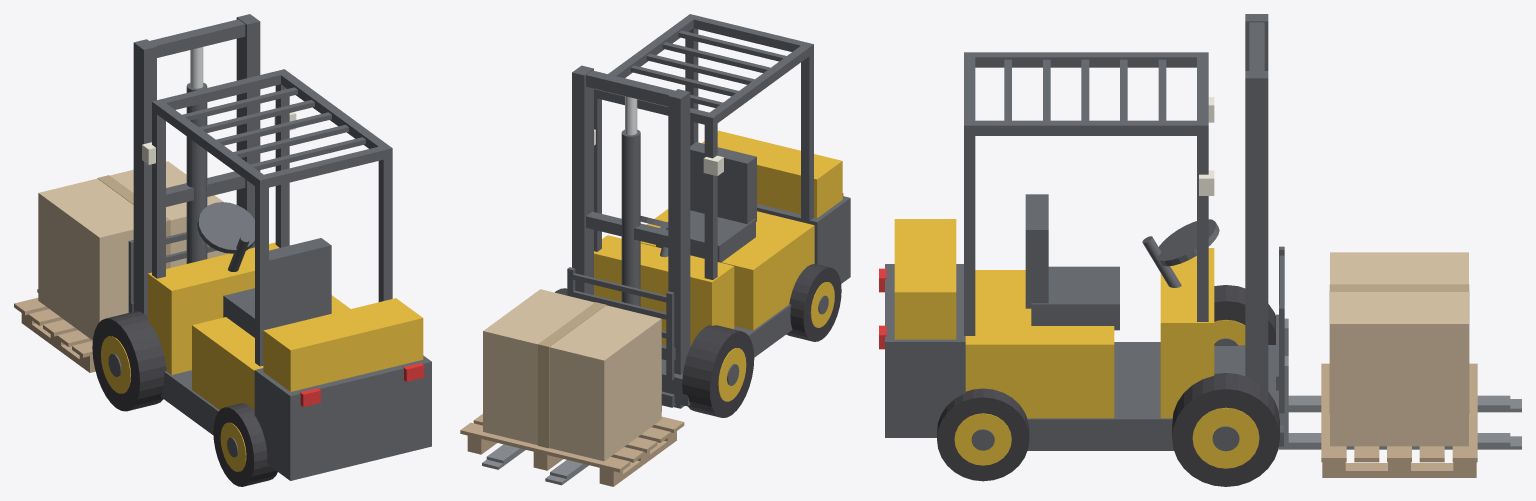
Rendered from forklift.glb.
3 renders of one model, left to right at view 1: azimuth 30°, elevation 25°; view 2: azimuth 150°, elevation 25°; view 3: azimuth 270°, elevation 25°, orthographic. The views are drawn at different scales.
Visible parts, largest first — view 1: Counterweight_Lower, Cargo_Box, Counterweight_Upper, Chassis_FrontCowl, Chassis_Hood, Mast_Rail_L, Seat_Backrest, Wheel_FL, Mast_Rail_R, Wheel_RL, Lift_Hydraulic_Cylinder, Pillar_3 (+22 smaller); view 2: Cargo_Box, Chassis_Hood, Chassis_FrontCowl, Mast_Rail_L, Counterweight_Upper, Mast_Rail_R, Wheel_FL, Seat_Backrest, Lift_Hydraulic_Cylinder, Counterweight_Lower, Wheel_RL, Pillar_3 (+26 smaller); view 3: Cargo_Box, Chassis_Hood, Chassis_Floor, Counterweight_Lower, Counterweight_Upper, Mast_Rail_R, Wheel_FR, Chassis_FrontCowl, Seat_Base, Wheel_RR, Roof_Frame_R, Roof_Frame_L (+17 smaller).
Part boxes in pixels (x1,y1,x2,y2): Counterweight_Lower: [254, 355, 431, 480]; Cargo_Box: [38, 161, 228, 340]; Counterweight_Upper: [263, 298, 423, 391]; Chassis_FrontCowl: [148, 242, 289, 374]; Chassis_Hood: [192, 295, 350, 409]; Mast_Rail_L: [133, 39, 156, 316]; Seat_Backrest: [269, 238, 331, 328]; Wheel_FL: [92, 311, 166, 411]; Mast_Rail_R: [236, 14, 260, 248]; Wheel_RL: [213, 403, 277, 486]; Lift_Hydraulic_Cylinder: [186, 82, 207, 263]; Pillar_3: [255, 185, 268, 366]; Cargo_Box: [483, 289, 661, 461]; Chassis_Hood: [640, 209, 814, 330]; Chassis_FrontCowl: [594, 235, 734, 346]; Mast_Rail_L: [668, 89, 690, 408]; Counterweight_Upper: [702, 130, 842, 218]; Mast_Rail_R: [572, 65, 593, 294]; Wheel_FL: [682, 325, 754, 417]; Seat_Backrest: [690, 142, 756, 223]; Lift_Hydraulic_Cylinder: [621, 129, 640, 306]; Counterweight_Lower: [757, 196, 850, 283]; Wheel_RL: [786, 264, 841, 341]; Pillar_3: [801, 52, 813, 221]; Cargo_Box: [1330, 252, 1468, 446]; Chassis_Hood: [965, 270, 1114, 418]; Chassis_Floor: [1027, 342, 1277, 450]; Counterweight_Lower: [885, 264, 965, 437]; Counterweight_Upper: [894, 219, 956, 339]; Mast_Rail_R: [1245, 71, 1268, 390]; Wheel_FR: [1172, 373, 1279, 486]; Chassis_FrontCowl: [1160, 248, 1214, 418]; Seat_Base: [1031, 266, 1119, 330]; Wheel_RR: [937, 388, 1029, 481]; Roof_Frame_R: [966, 120, 1207, 135]; Roof_Frame_L: [966, 52, 1207, 67].
Size of the model in its own units: 1.3 by 2.23 by 3.33.
